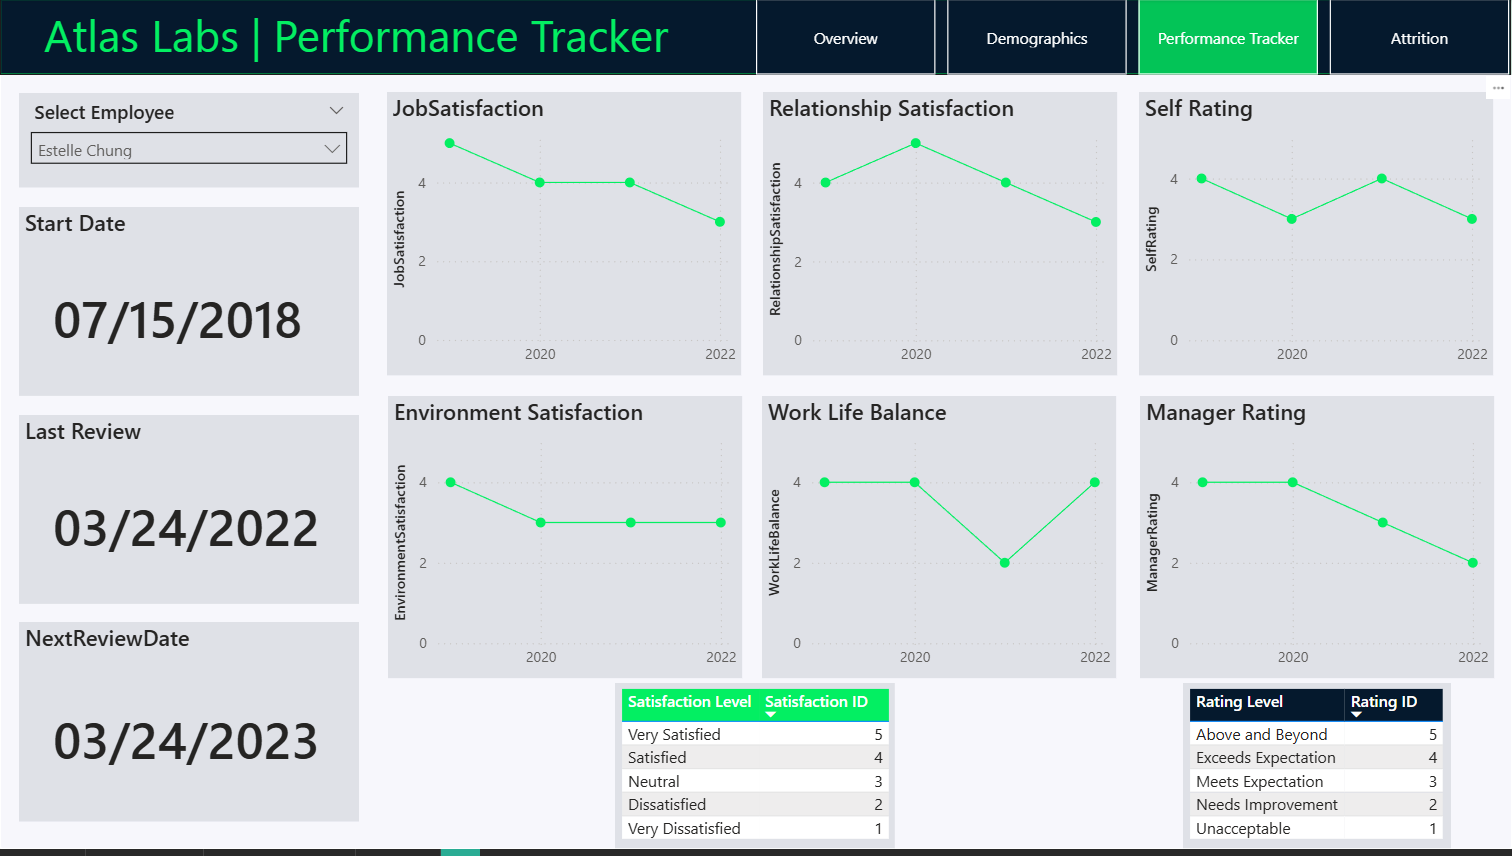

What the dashboard file says about the page in this screenshot:
{"tool":"powerbi","page":{"name":"Performance Tracker","canvas":[1280,720],"ordinal":2},"visuals":[{"type":"slicer","title":"Select employee","fields":{"Values":["Dim_Employee.FullName"]},"box":[16,80,288,80],"z":0},{"type":"cardVisual","title":"Start Date","fields":{"Data":["Min(Dim_Employee.HireDate)"]},"box":[16.4,176,288,160],"z":1000},{"type":"cardVisual","title":"Last Review","fields":{"Data":["_Measures.LastReviewDatee"]},"box":[16.4,352,287.8,160],"z":2000},{"type":"cardVisual","title":"NextReviewDate","fields":{"Data":["_Measures.NextReviewDate"]},"box":[16.4,528,287.8,169],"z":3000},{"type":"lineChart","title":"Relationship Satisfaction ","fields":{"Y":["_Measures.RelationshipSatisfaction"],"Category":["DimDate.Year"]},"box":[646,79,300,240.3],"z":4000},{"type":"lineChart","title":"Work Life Balance ","fields":{"Y":["_Measures.WorkLifeBalance"],"Category":["DimDate.Year"]},"box":[645.6,336.2,299.9,239.4],"z":5000},{"type":"lineChart","title":"JobSatisfaction","fields":{"Category":["DimDate.Year"],"Y":["_Measures.JobSatisfaction"]},"box":[328,79,300,240],"z":6000},{"type":"lineChart","title":"Environment Satisfaction ","fields":{"Category":["DimDate.Year"],"Y":["_Measures.EnvironmentSatisfaction"]},"box":[328.4,336.2,299.9,239.4],"z":7000},{"type":"lineChart","title":"Manager Rating ","fields":{"Category":["DimDate.Year"],"Y":["_Measures.ManagerRating"]},"box":[965.4,336.2,299.9,239.4],"z":8000},{"type":"lineChart","title":"Self Rating ","fields":{"Category":["DimDate.Year"],"Y":["_Measures.SelfRating"]},"box":[965,79,300,240.3],"z":9000},{"type":"shape","box":[0,0,1280,64],"z":10000},{"type":"textbox","box":[32,0,624,64],"z":11000},{"type":"pageNavigator","box":[640,0,640,64],"z":12000},{"type":"tableEx","fields":{"Values":["Dim_SatisfiedLevel.SatisfactionLevel","Dim_SatisfiedLevel.SatisfactionID"]},"box":[521,579,237,140],"z":13000},{"type":"tableEx","fields":{"Values":["Dim_RatingLevel.RatingLevel","Dim_RatingLevel.RatingID"]},"box":[1002,579,227.3,140],"z":14000}]}

Visuals, with their boxes in screenshot pixels (x1, y1, x2, y2), scaled from the page's 1280x720 canvas onto the 1512x856 screenshot:
"Select employee" slicer: 19, 95, 359, 190
"Start Date" cardVisual: 19, 209, 360, 399
"Last Review" cardVisual: 19, 418, 359, 609
"NextReviewDate" cardVisual: 19, 628, 359, 829
"Relationship Satisfaction " lineChart: 763, 94, 1117, 380
"Work Life Balance " lineChart: 763, 400, 1117, 684
"JobSatisfaction" lineChart: 387, 94, 742, 379
"Environment Satisfaction " lineChart: 388, 400, 742, 684
"Manager Rating " lineChart: 1140, 400, 1495, 684
"Self Rating " lineChart: 1140, 94, 1494, 380
shape: 0, 0, 1511, 76
textbox: 38, 0, 775, 76
pageNavigator: 756, 0, 1511, 76
tableEx - Dim_SatisfiedLevel.SatisfactionLevel x Dim_SatisfiedLevel.SatisfactionID: 615, 688, 895, 855
tableEx - Dim_RatingLevel.RatingLevel x Dim_RatingLevel.RatingID: 1184, 688, 1452, 855
